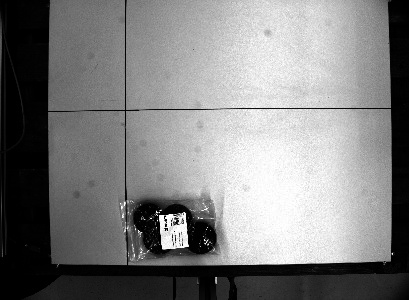t1: (116, 190, 227, 264)
